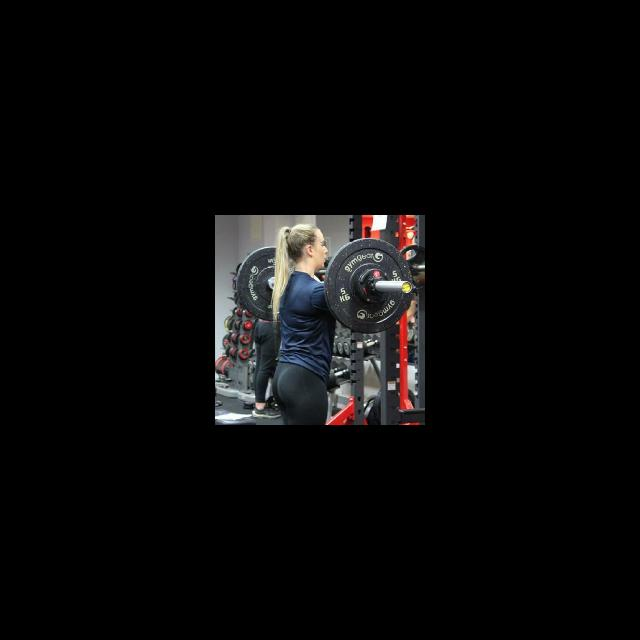barbell: (322, 236, 415, 335)
